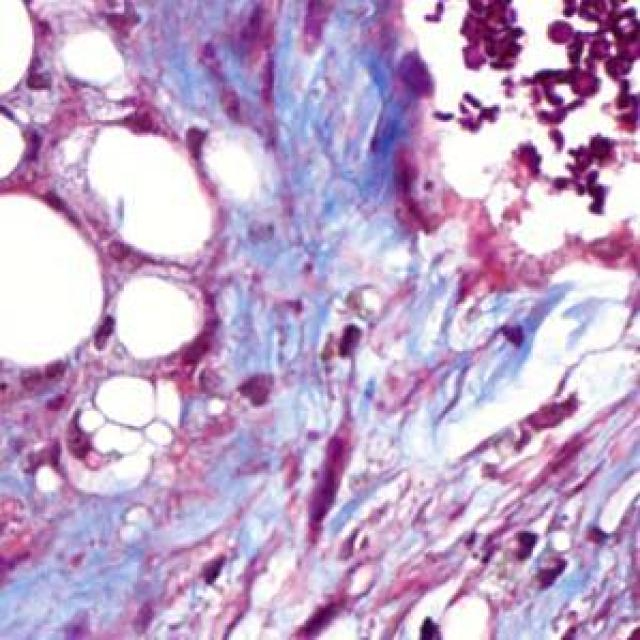steatosis: (111, 272, 212, 364)
